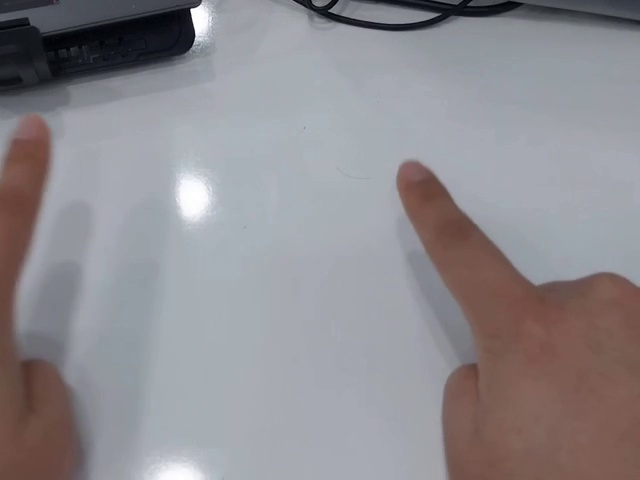fingers: (395, 157, 453, 209), (7, 114, 54, 167)
